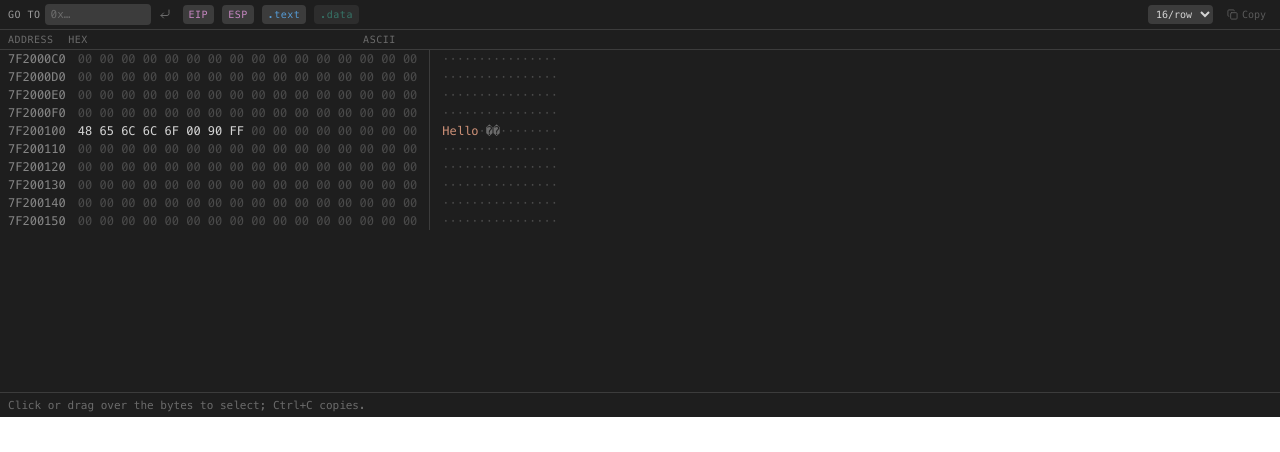
Test: atalhos de navegação › sem `.data` declarada o botão continua lá, marcado como vazio
Click the button ".data" at [337, 14], box [314,5,359,24]
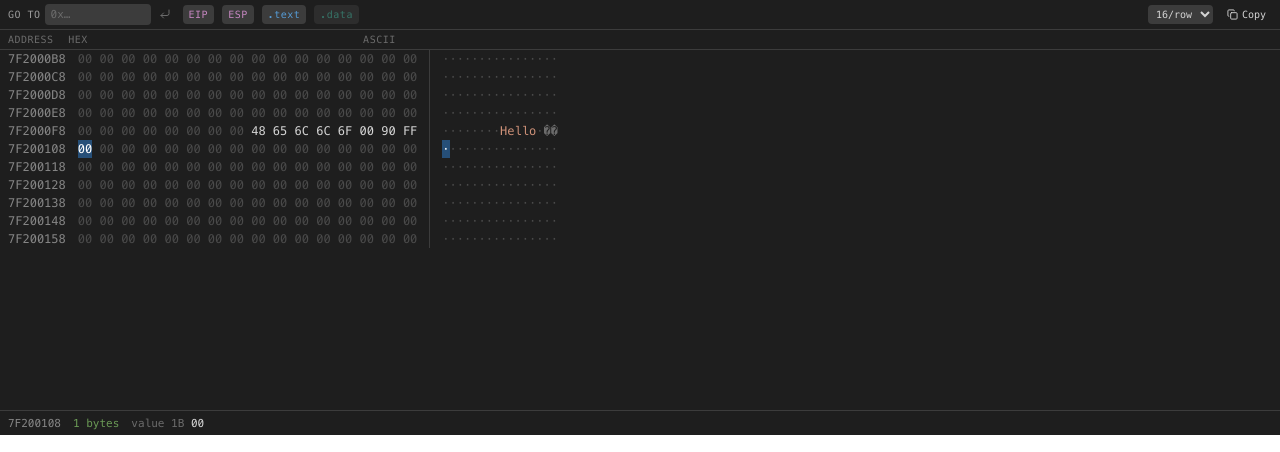
expect the footer shows "7F200108": met, box [8,416,61,430]
